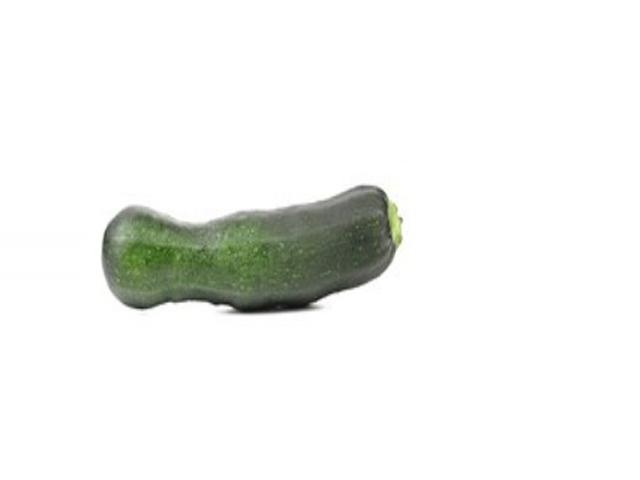cucumber: (102, 184, 403, 310)
